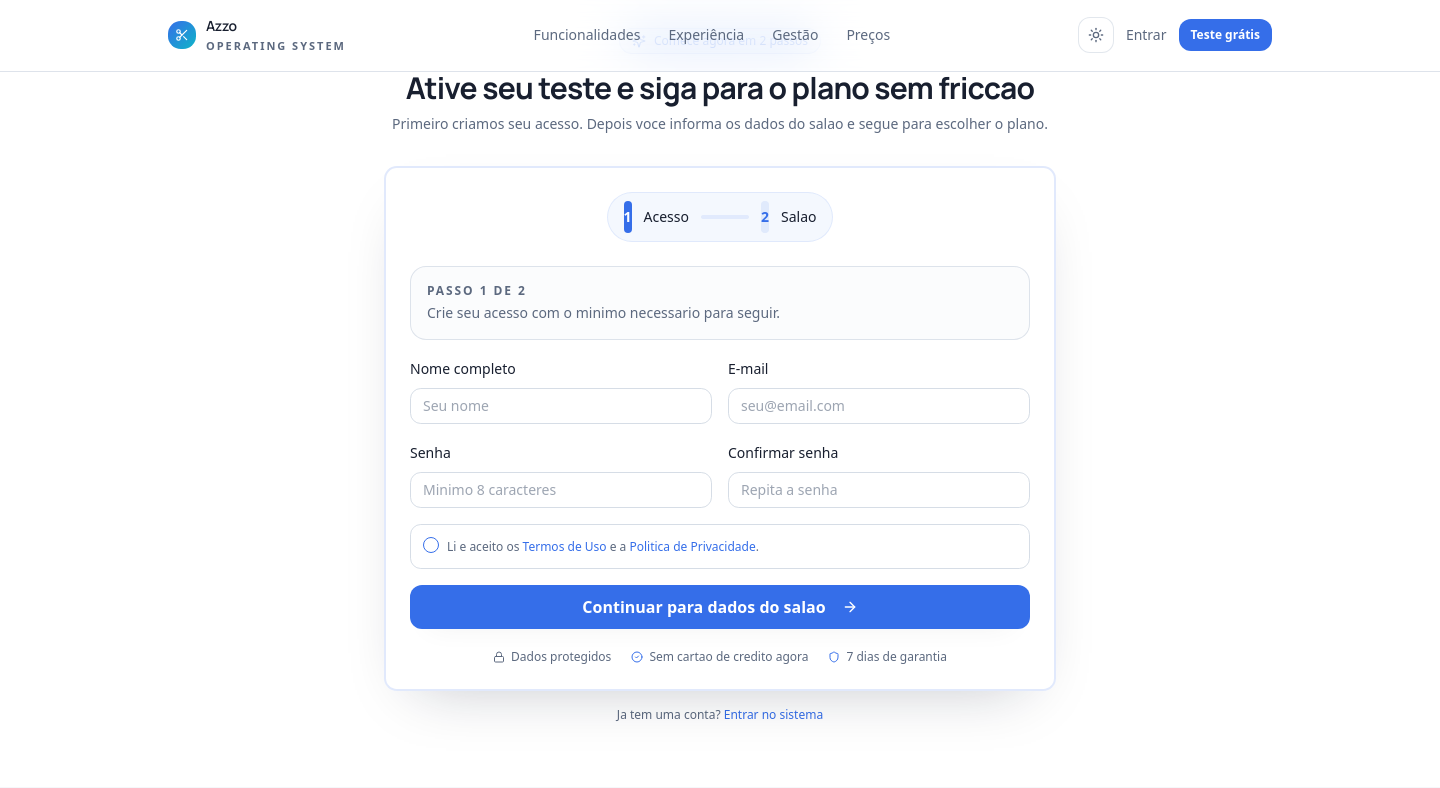
Test: SalePage › should use a two-step commercial signup flow
(page scrolled)
Check: the text "Passo 1 de 2" is shown, box [427, 282, 527, 298]
Check: the field labelled "Nome do salao" is not shown
Step 1. Type "Phelipp Nascimento" into the field labelled "Nome completo" → (561, 406), box [410, 388, 712, 424]
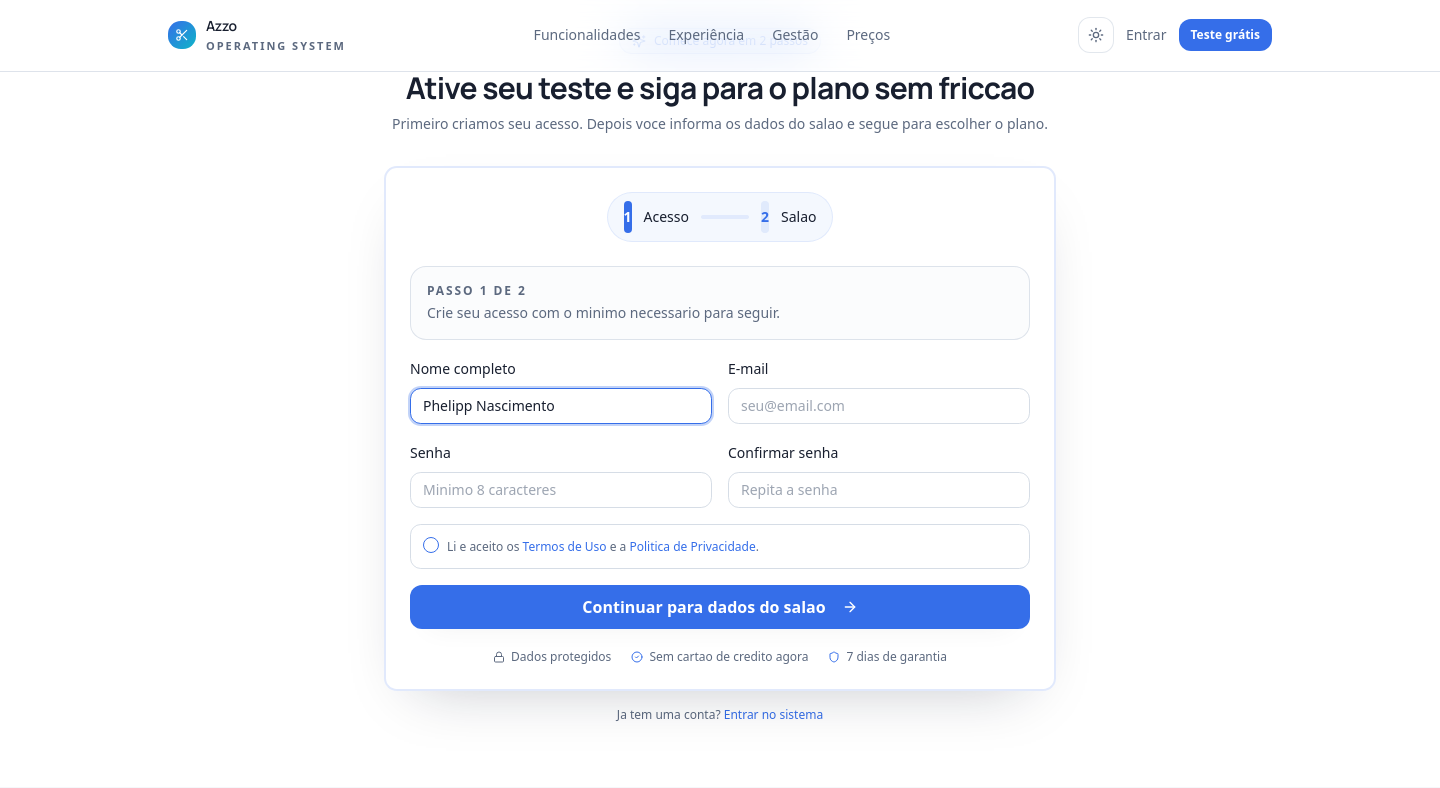
Step 2. Type "phelipp@example.com" into the field labelled "E-mail" → (879, 406), box [728, 388, 1030, 424]
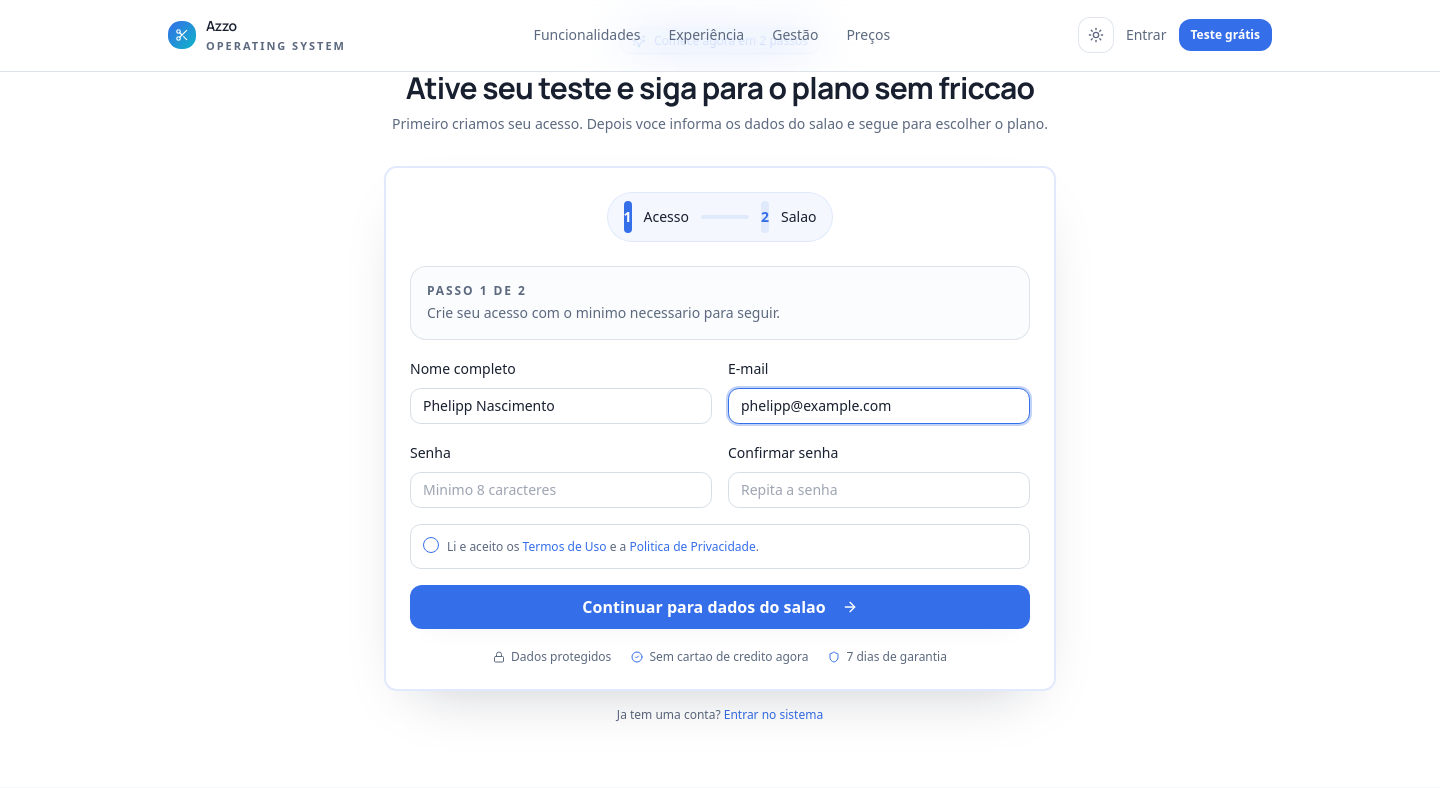
Step 3. Type "Senha@123" into the password field labelled "Senha" → (561, 490), box [410, 472, 712, 508]
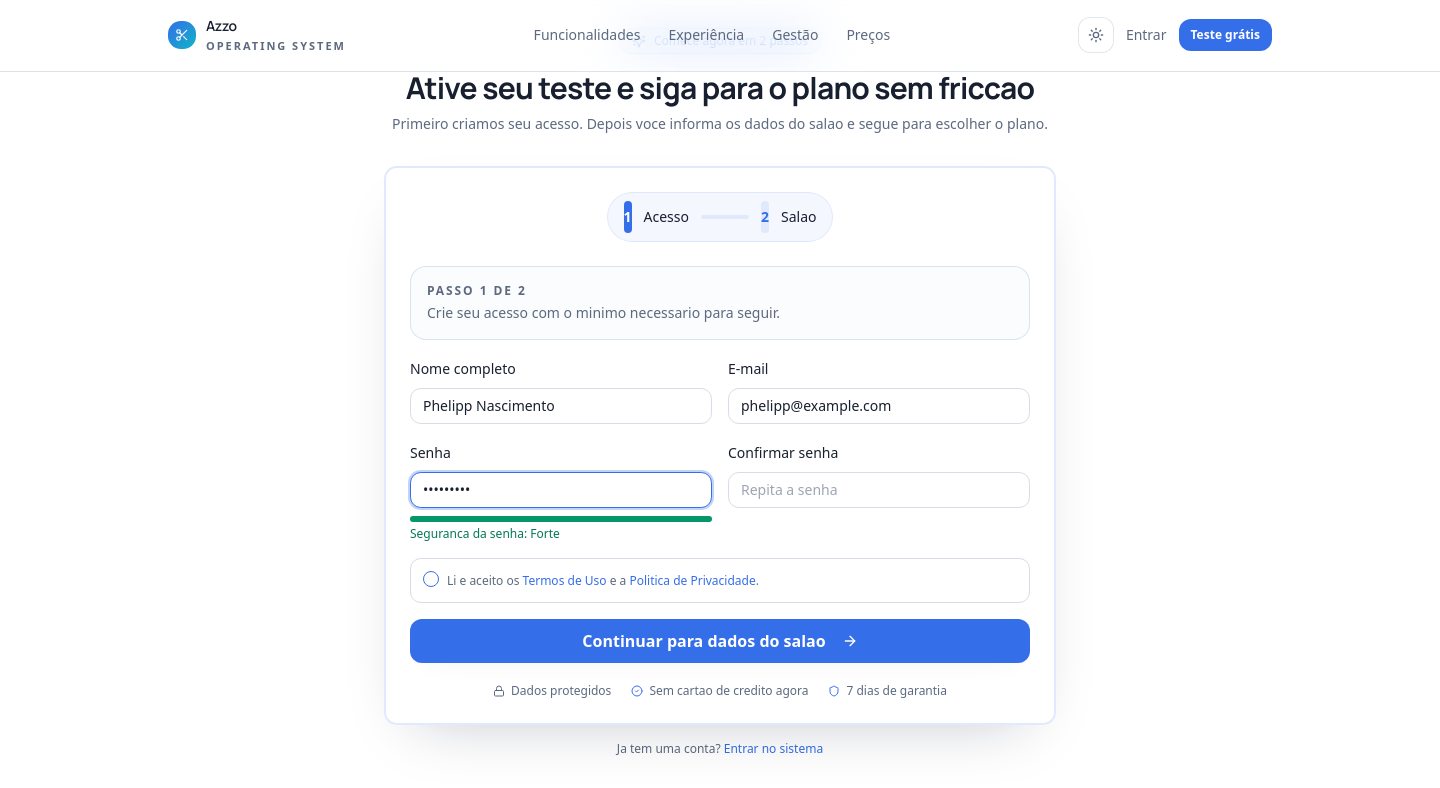
Step 4. Type "Senha@123" into the password field labelled "Confirmar senha" → (879, 490), box [728, 472, 1030, 508]
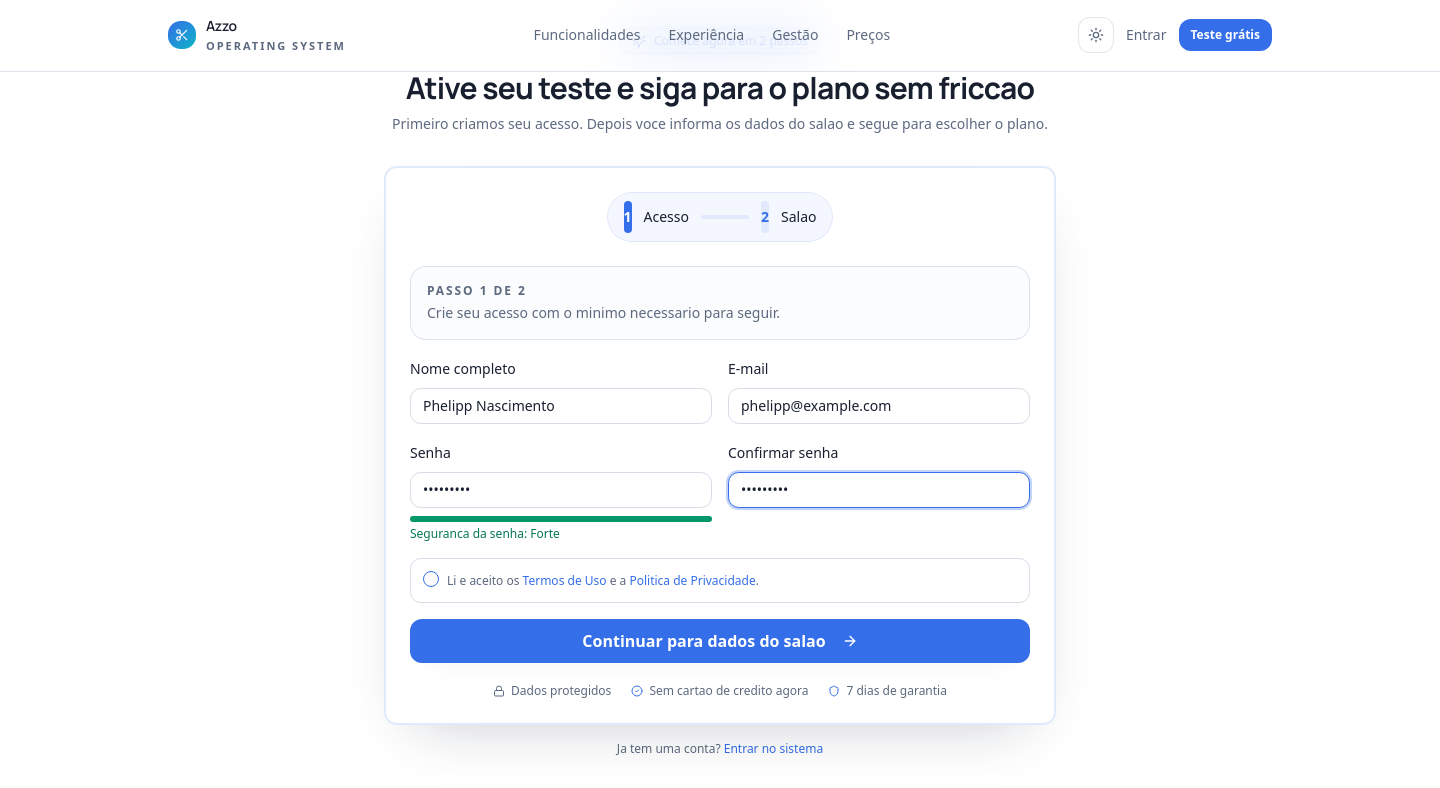
Step 5. Click the checkbox named "Li e aceito os" → (431, 578), box [423, 570, 439, 586]
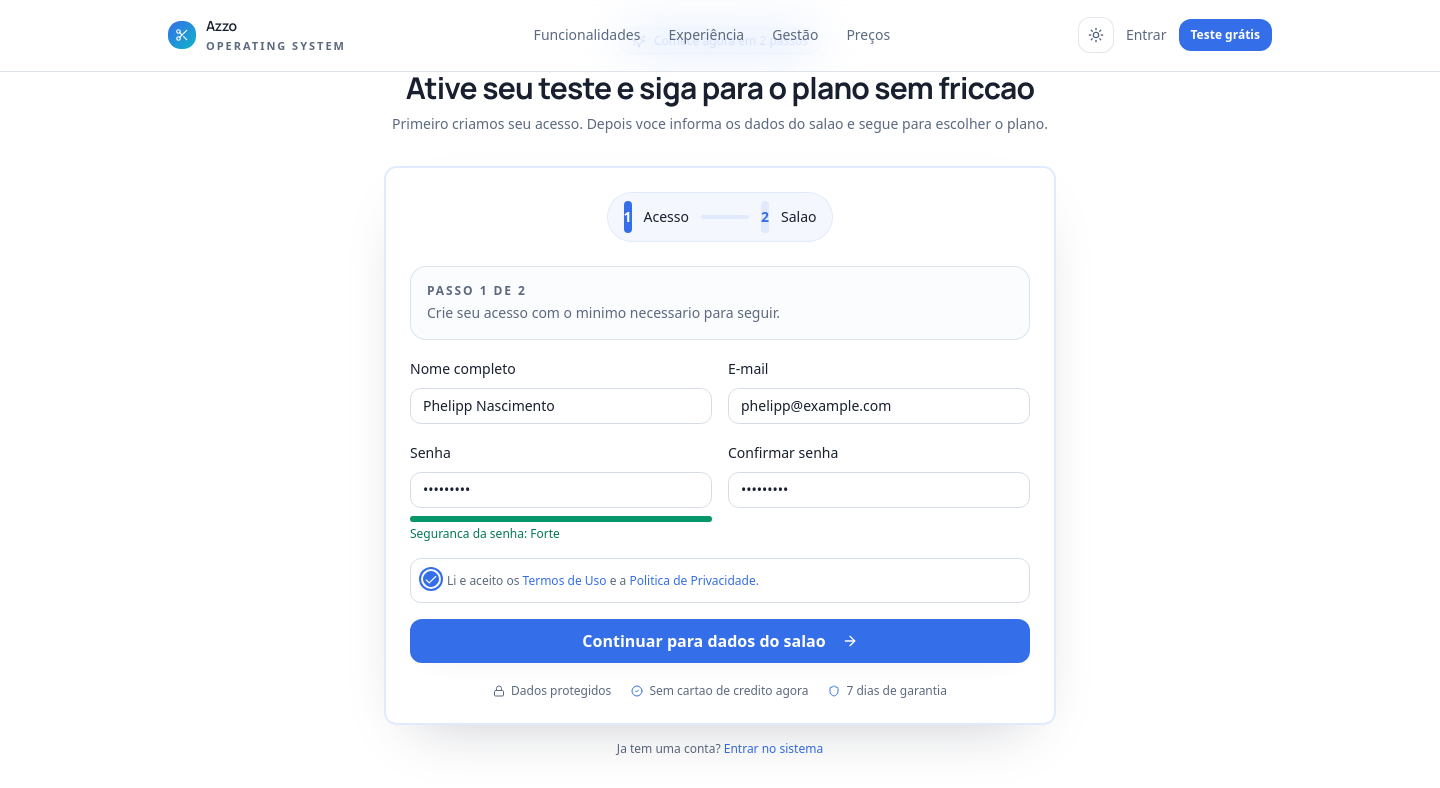
Step 6. Click the button "Continuar para dados do salao" → (720, 641), box [410, 619, 1030, 663]
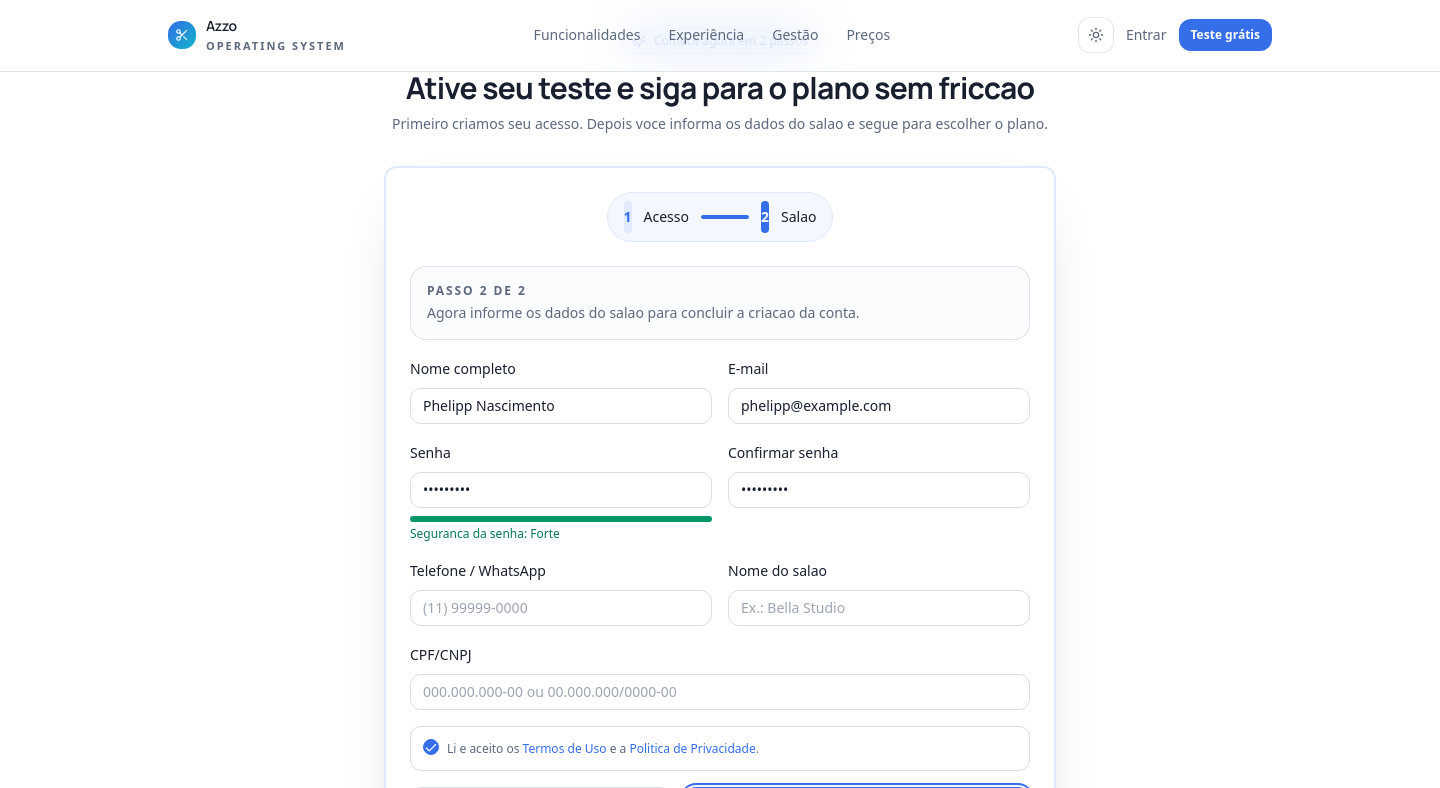
Check: the text "Passo 2 de 2" is shown, box [427, 282, 527, 298]
Check: the field labelled "Nome do salao" is shown, box [728, 590, 1030, 626]
Check: the field labelled "Telefone / WhatsApp" is shown, box [410, 590, 712, 626]
